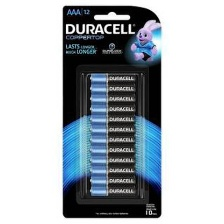battery: (88, 142, 137, 159), (87, 71, 140, 86), (87, 184, 139, 199), (87, 164, 137, 179), (88, 101, 138, 116), (86, 123, 138, 137), (87, 175, 138, 189), (86, 113, 137, 127), (87, 134, 137, 148), (86, 155, 137, 168), (88, 93, 138, 106), (88, 83, 138, 95)
book: (58, 1, 165, 220)
